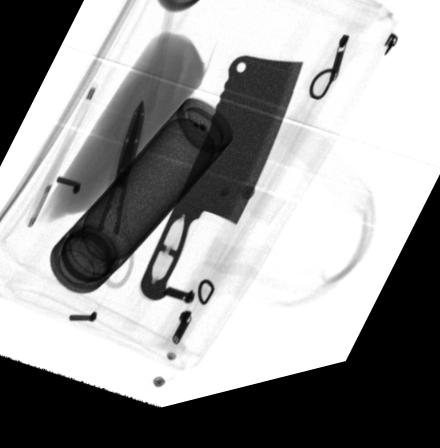Knife: (139, 67, 303, 309)
Scissors: (59, 106, 146, 295)
